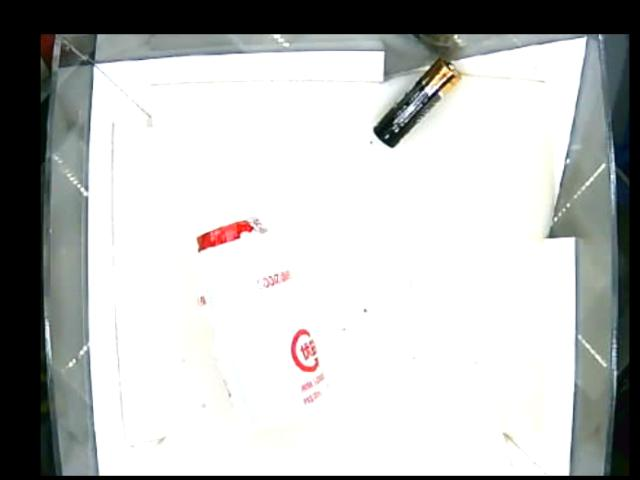Battery: (368, 60, 460, 149)
Bottle: (192, 215, 332, 429), (357, 209, 432, 349)
